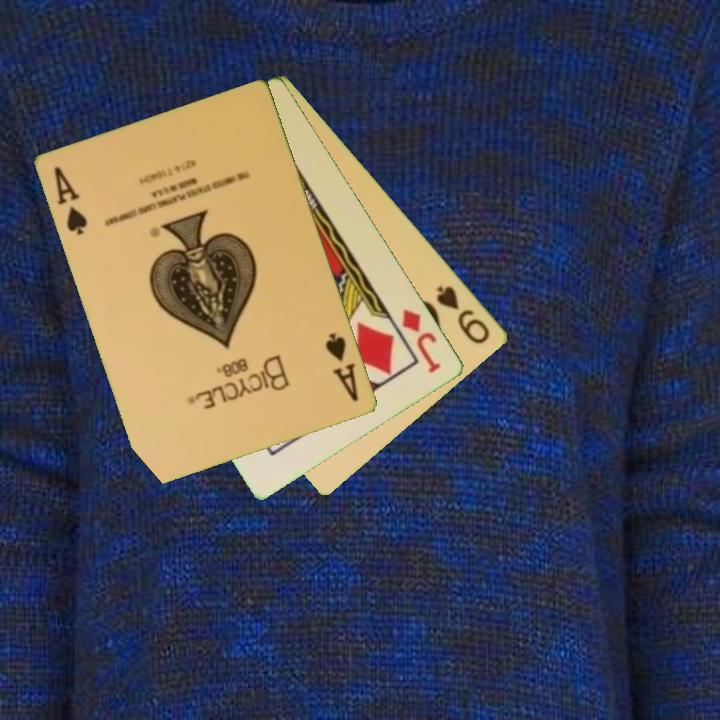9s: (433, 281, 494, 348)
As: (322, 329, 362, 405), (51, 163, 91, 238)
Jd: (398, 304, 444, 376)
